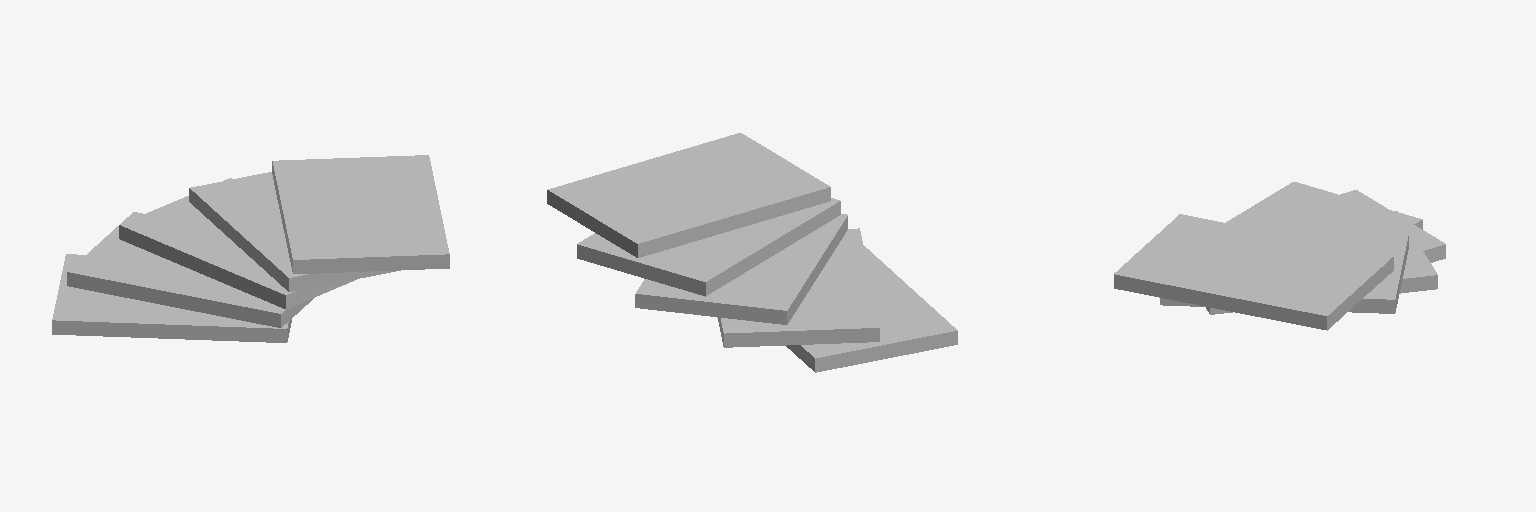
File: Cards.obj
3 renders of one model, left to right at view 1: azimuth 30°, elevation 25°; view 2: azimuth 150°, elevation 25°; view 3: azimuth 270°, elevation 25°, orthographic.
Visible parts, largest first — view 1: Cube.004, Cube.001, Cube.002, Cube, Cube.003; view 2: Cube.004, Cube.003, Cube.002, Cube.001, Cube; view 3: Cube.004, Cube.003, Cube.002, Cube.001, Cube.
Part boxes in pixels (bbox=[...]): Cube.004: bbox=[272, 155, 449, 273]; Cube.001: bbox=[67, 212, 313, 327]; Cube.002: bbox=[119, 178, 356, 308]; Cube: bbox=[52, 254, 291, 342]; Cube.003: bbox=[189, 172, 400, 291]; Cube.004: bbox=[547, 133, 830, 257]; Cube.003: bbox=[577, 198, 840, 296]; Cube.002: bbox=[635, 214, 847, 324]; Cube.001: bbox=[717, 228, 879, 347]; Cube: bbox=[786, 245, 957, 372]; Cube.004: bbox=[1114, 214, 1393, 330]; Cube.003: bbox=[1160, 228, 1408, 313]; Cube.002: bbox=[1206, 211, 1437, 314]; Cube.001: bbox=[1238, 190, 1445, 262]; Cube: bbox=[1226, 182, 1422, 229].
Size of the model in its own units: 0.289 by 0.05 by 0.2116.